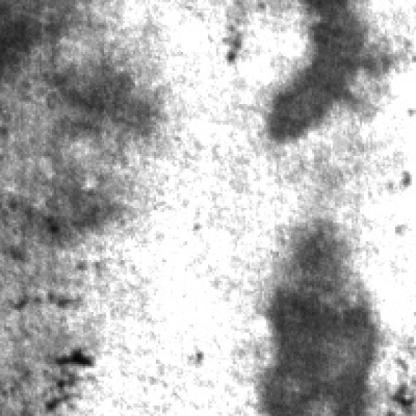patches: (262, 214, 383, 414), (266, 0, 398, 139), (46, 52, 166, 150), (45, 162, 125, 250), (6, 0, 88, 73)
